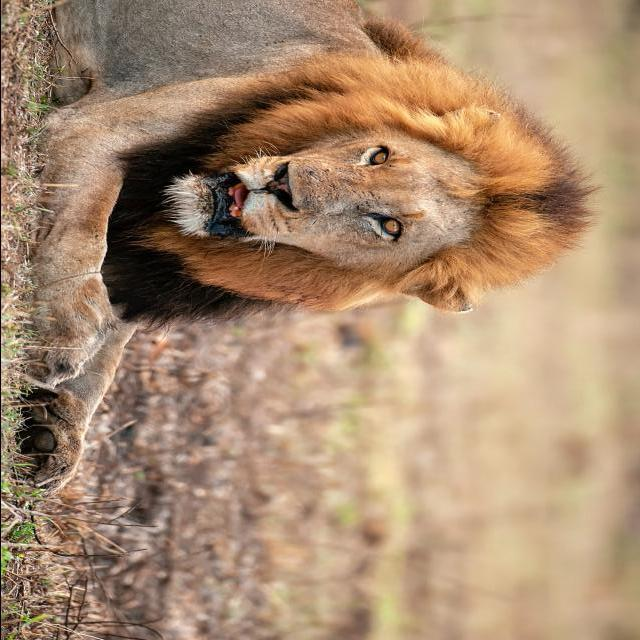lions: (0, 0, 640, 548)
